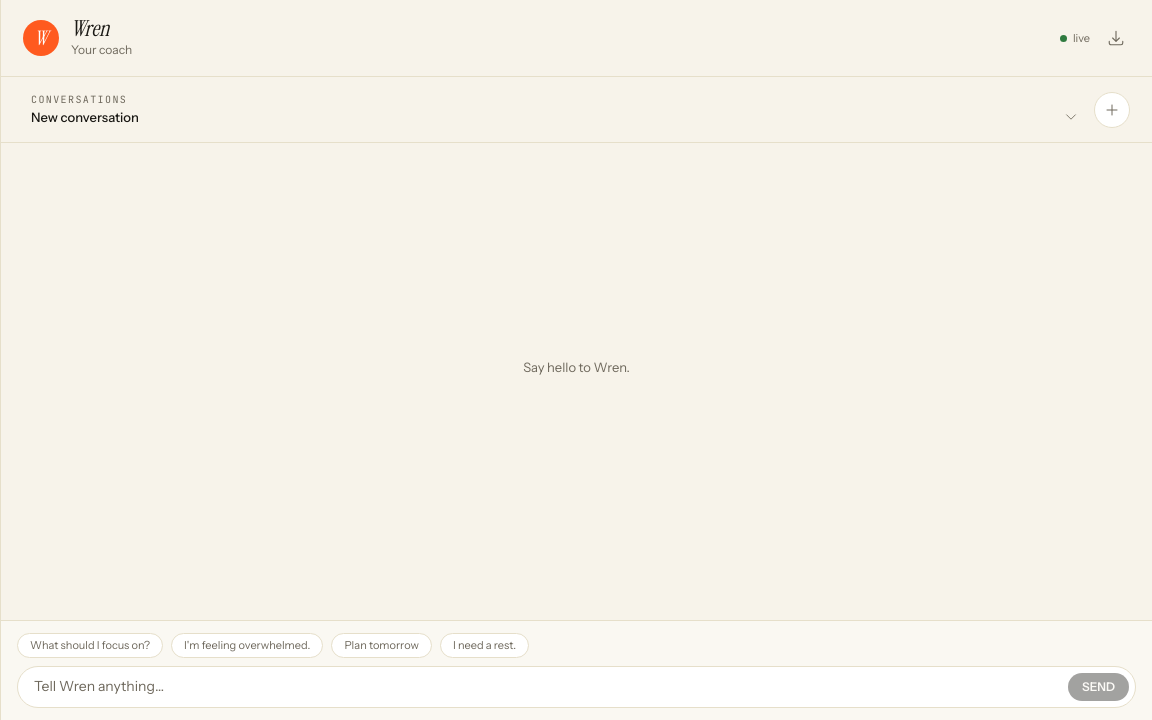
it: WrenPanel › quick-prompt chips › clicking a chip fills the draft input
Click the button with class "wren-panel__chip" showing "What should I focus on?".
click(90, 645)  # box 17,633 -> 163,658
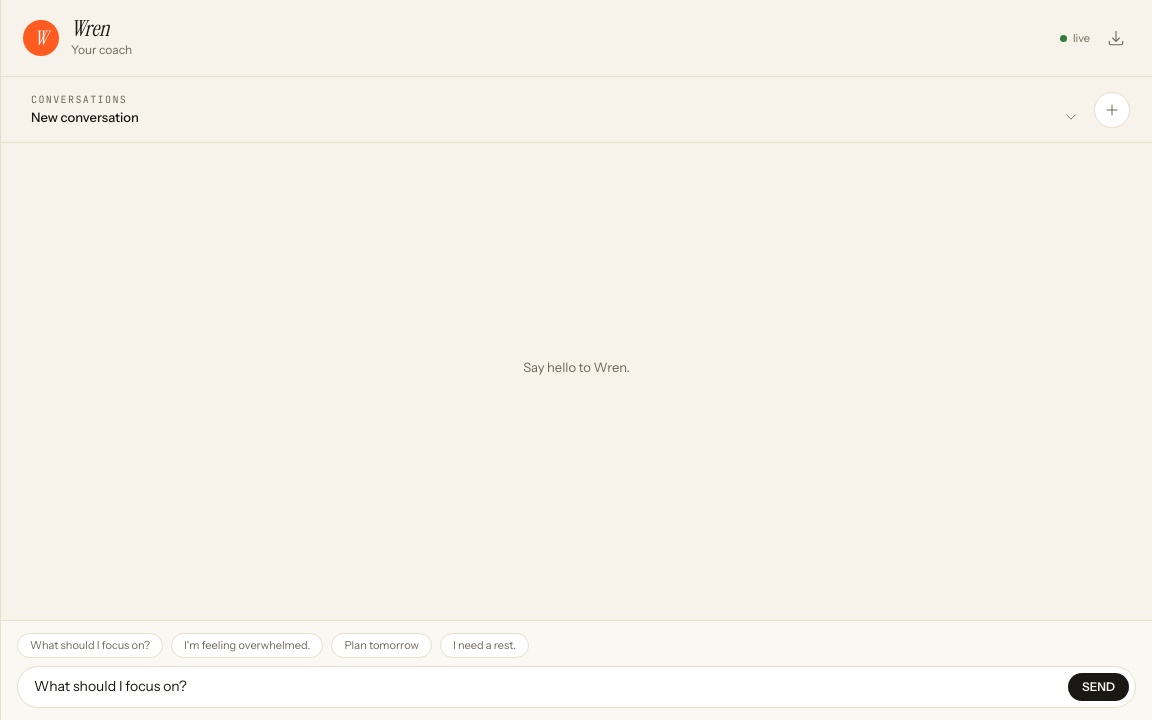
expect the field with class "wren-panel__input" holds "What should I focus on?": met, box 34,678 -> 1060,696
